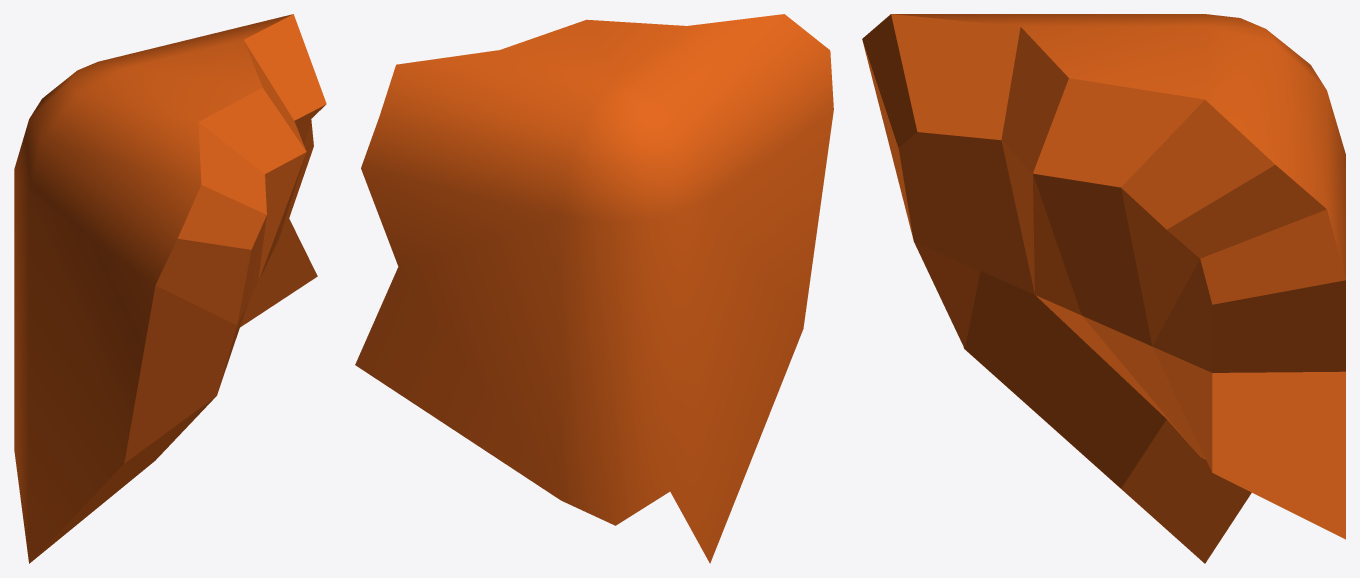
3 views of the same model, side by side, from view 1: azimuth 30°, elevation 25°; view 2: azimuth 150°, elevation 25°; view 3: azimuth 270°, elevation 25° (orthographic). The views are drawn at different scales.
Visible parts, largest first — view 1: ChamferBox009; view 2: ChamferBox009; view 3: ChamferBox009.
Boxes of the visible parts, bbox=[...] form: ChamferBox009: bbox=[14, 14, 326, 563]; ChamferBox009: bbox=[355, 14, 833, 563]; ChamferBox009: bbox=[862, 14, 1345, 563].
Bounding box in the file's own units: 42 × 61.79 × 45.39.
